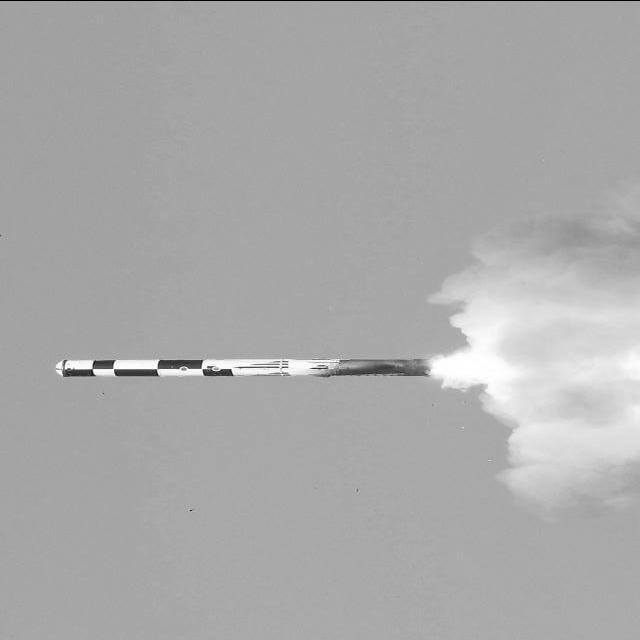missile: (55, 356, 435, 382)
